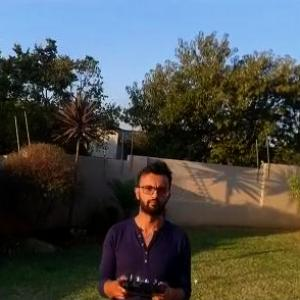follow: (90, 154, 196, 299)
